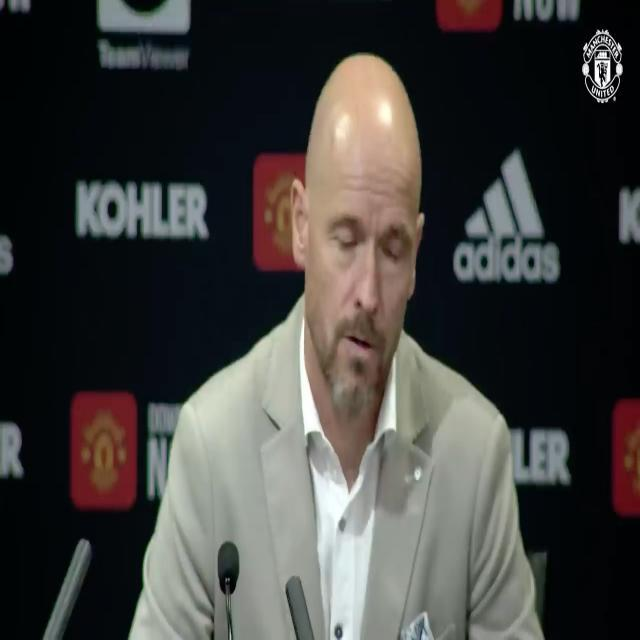Adidas: (453, 149, 562, 283)
Kohler: (75, 181, 208, 240)
TeamViewer: (97, 0, 189, 73)
